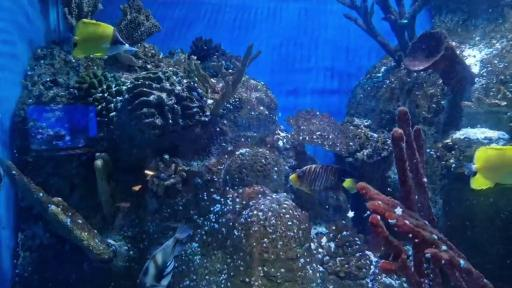Fish: (139, 224, 191, 288), (73, 19, 137, 57), (465, 146, 512, 190), (289, 164, 357, 193)
